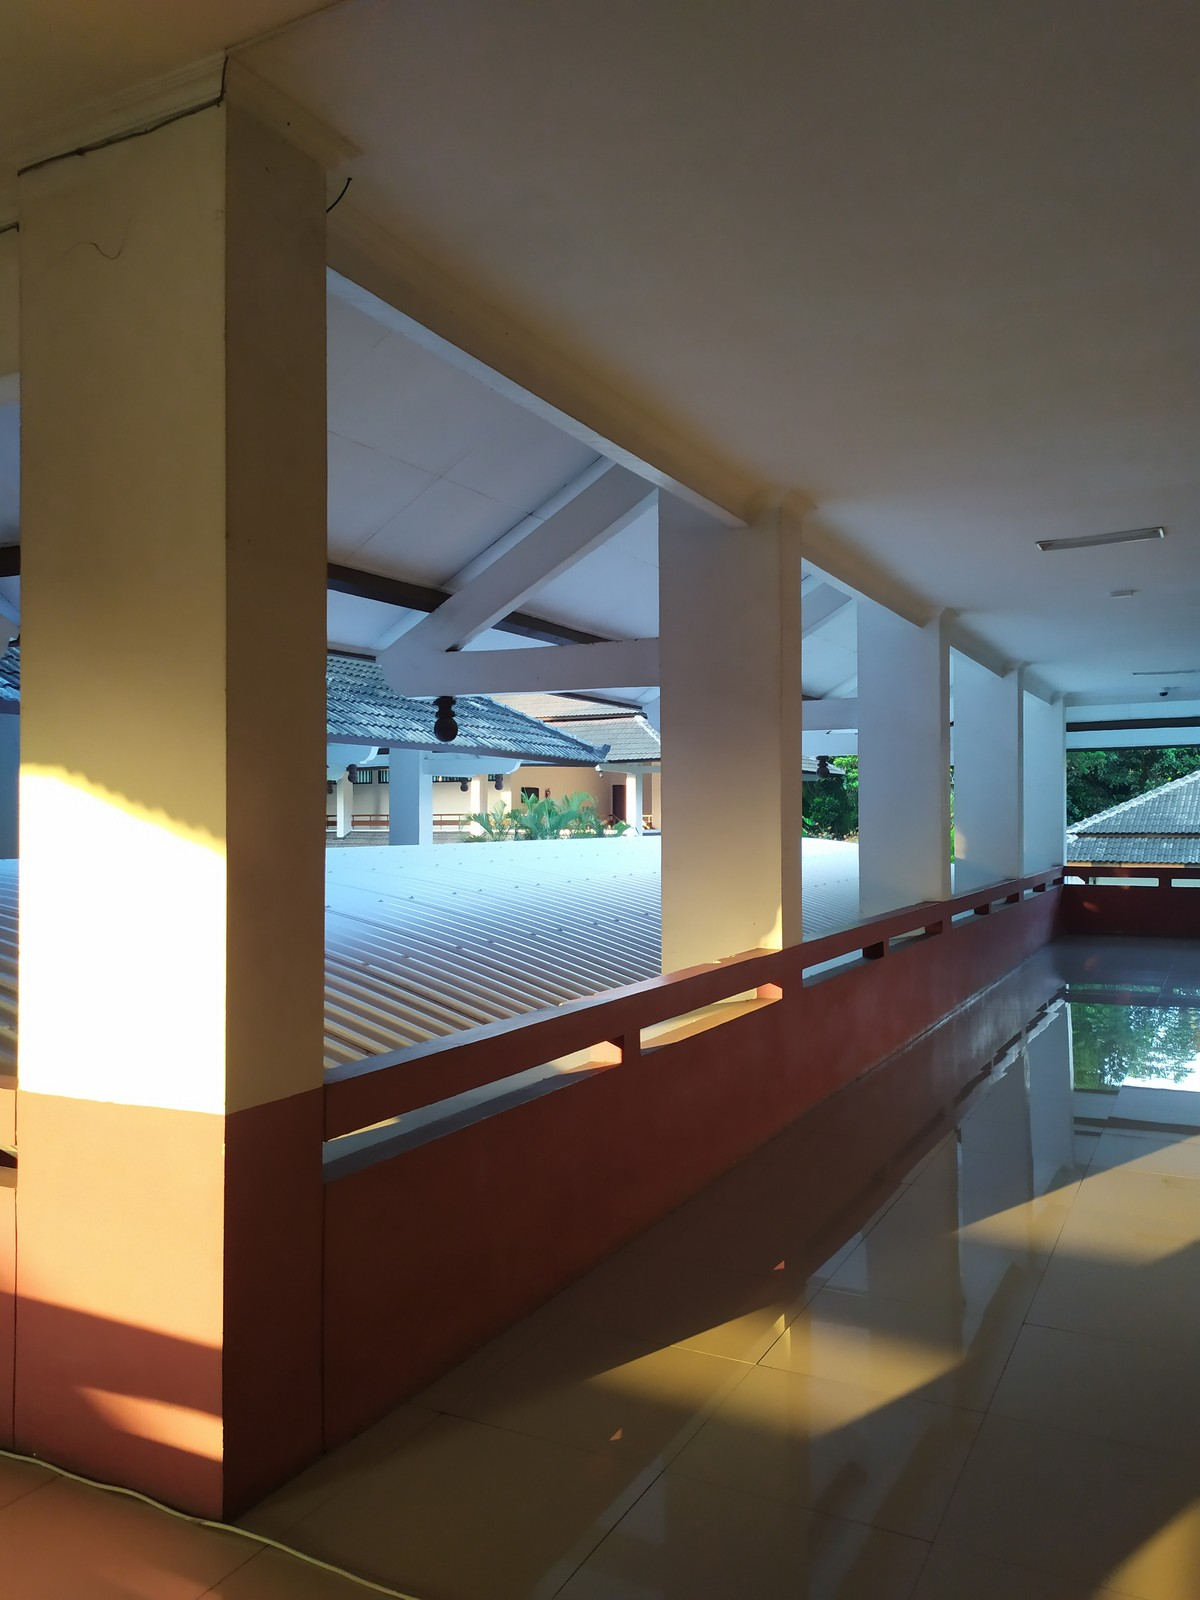concrete beam: (453, 634, 672, 695)
concrete column: (11, 117, 337, 1513), (644, 470, 811, 973), (850, 581, 966, 917), (961, 653, 1034, 884)
